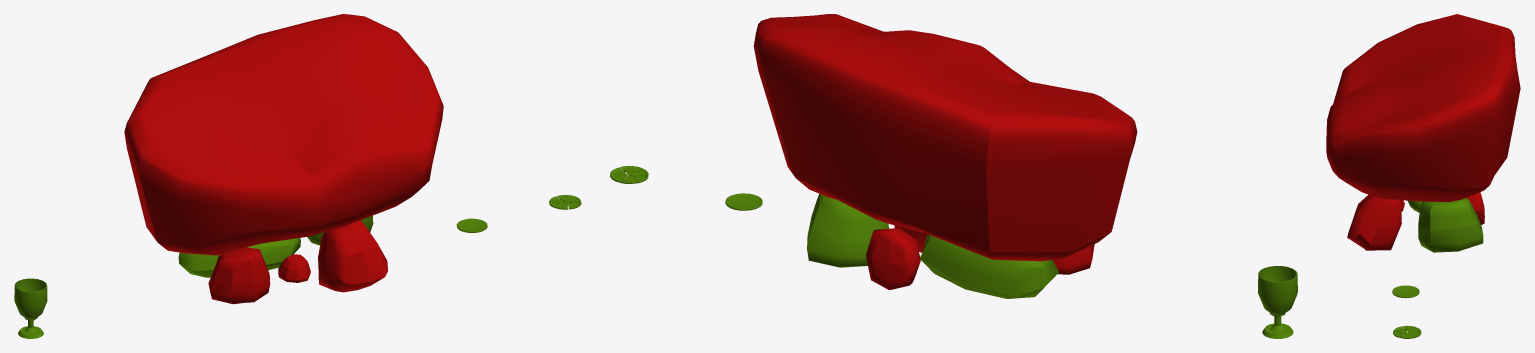
3 renders of one model, left to right at view 1: azimuth 30°, elevation 25°; view 2: azimuth 150°, elevation 25°; view 3: azimuth 270°, elevation 25°, orthographic. The views are drawn at different scales.
Parts seen in each view (by area): view 1: pCube1, pCube7, pCube6, pCube3, cup, pCube5; view 2: pCube1, pCube3, pCube4, pCube8, cup, pCube6, medal; view 3: pCube1, pCube4, pCube7, pCube8, medal.
Boxes of the visible parts, x1,y1,x2,y2 form: pCube1: [124, 14, 443, 255]; pCube7: [318, 220, 387, 292]; pCube6: [208, 247, 270, 304]; pCube3: [178, 238, 300, 277]; cup: [14, 278, 47, 338]; pCube5: [278, 254, 310, 282]; pCube1: [753, 14, 1137, 261]; pCube3: [920, 234, 1058, 298]; pCube4: [807, 194, 888, 267]; pCube8: [866, 228, 920, 289]; cup: [1258, 266, 1297, 338]; pCube6: [1053, 244, 1094, 274]; medal: [725, 193, 762, 210]; pCube1: [1326, 14, 1520, 202]; pCube4: [1418, 198, 1483, 252]; pCube7: [1347, 194, 1401, 250]; pCube8: [1466, 192, 1484, 224]; medal: [1392, 285, 1419, 298].
Size of the model in its own units: 4.21 by 1.49 by 1.42.
